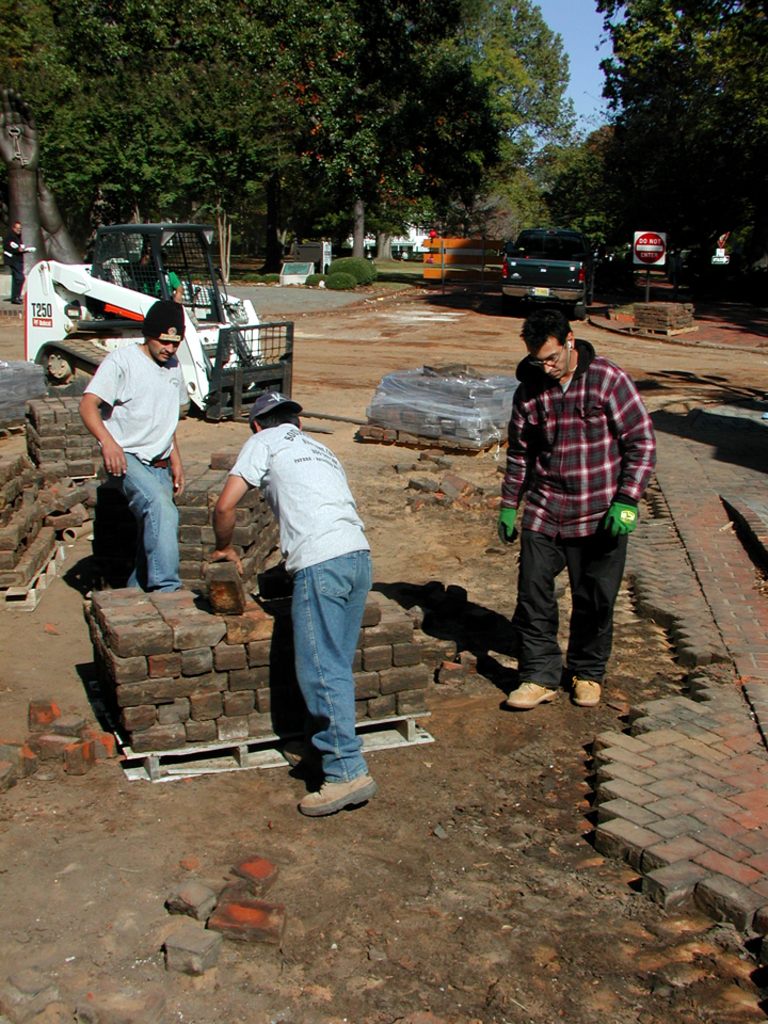Footwear: (285, 752, 372, 822), (511, 676, 572, 710), (572, 676, 602, 708)
